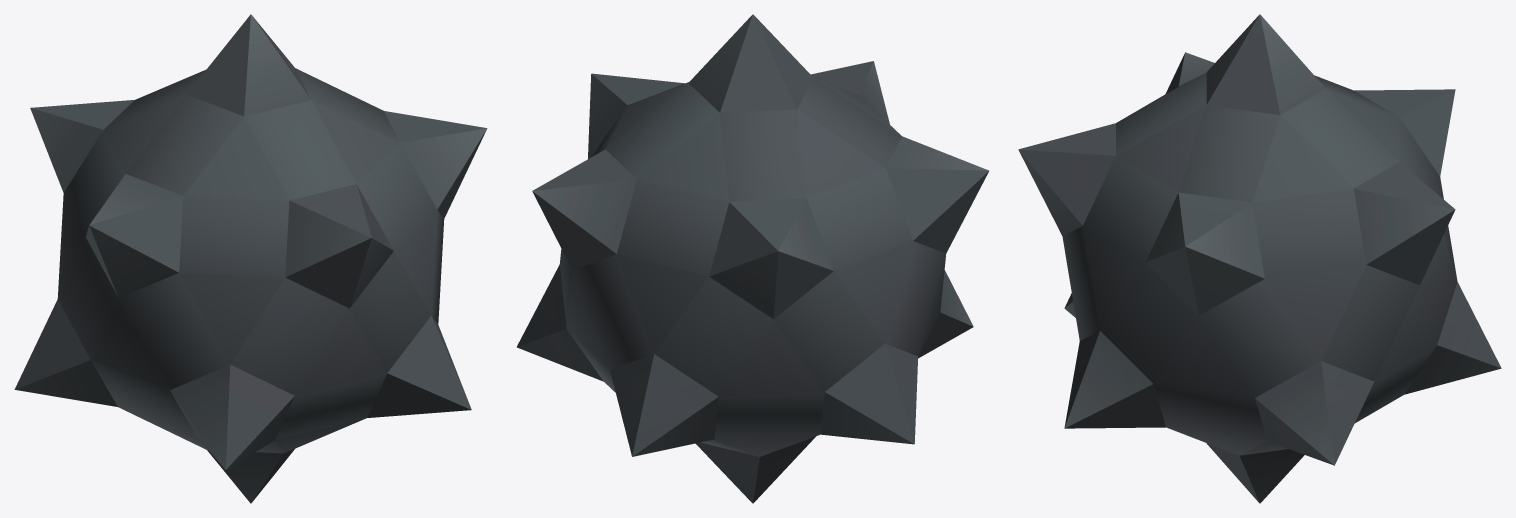
File: kay-pedra-catapulta.gltf
3 views of the same model, side by side, from view 1: azimuth 30°, elevation 25°; view 2: azimuth 150°, elevation 25°; view 3: azimuth 270°, elevation 25° (orthographic).
Parts seen in each view (by area): view 1: projectile_catapult; view 2: projectile_catapult; view 3: projectile_catapult.
Part boxes in pixels (x1=…): projectile_catapult: x1=14, y1=14, x2=487, y2=503; projectile_catapult: x1=517, y1=14, x2=988, y2=503; projectile_catapult: x1=1018, y1=14, x2=1501, y2=503.
Size of the model in its own units: 1.2 by 1.41 by 1.26.
1 material, 1 textured.
